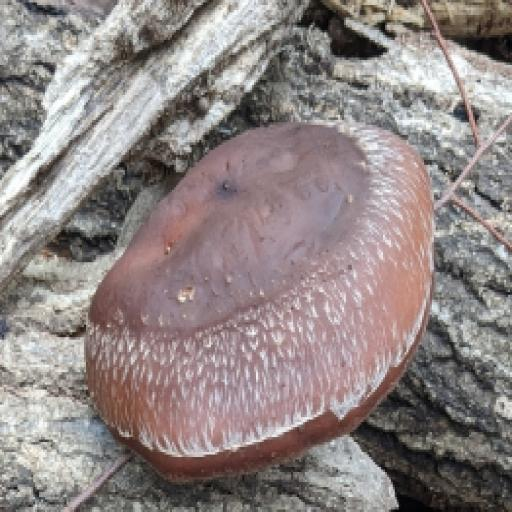Shiitake Mushroom: (91, 124, 420, 459)
